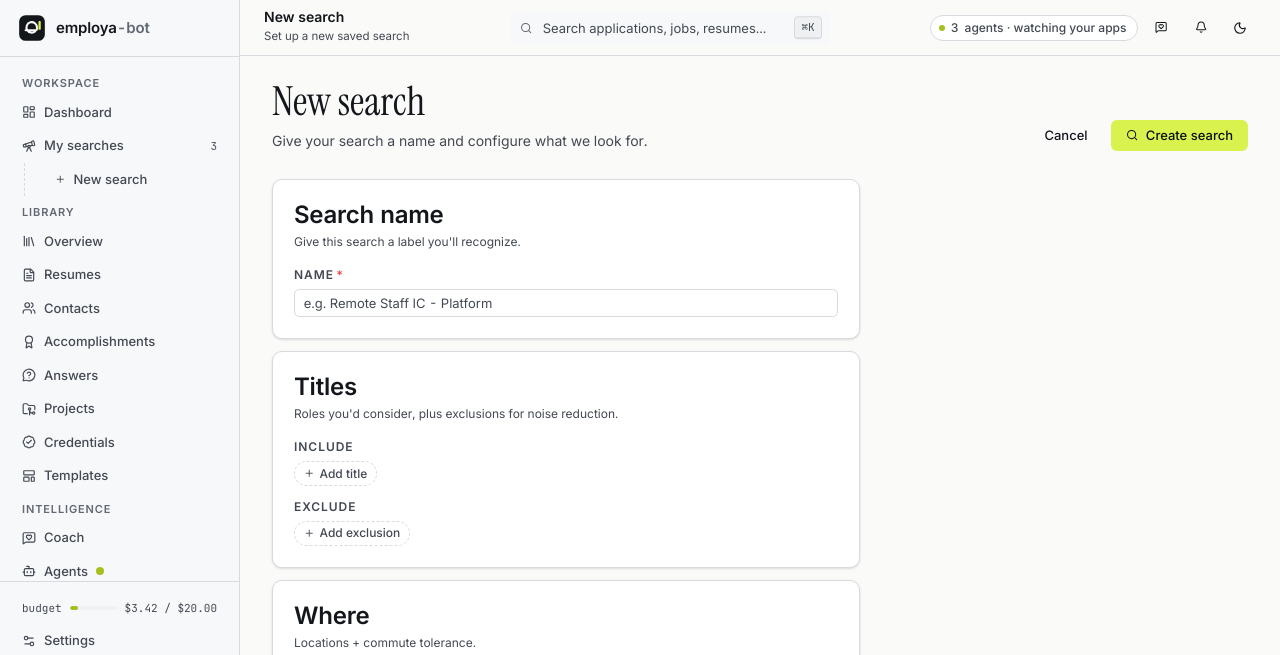
Test case: SearchCriteriaScreen -- create mode › shows inline name-required error when Create is clicked with empty name
Click the button "Create search" at (1179,135), box [1111, 120, 1248, 151]
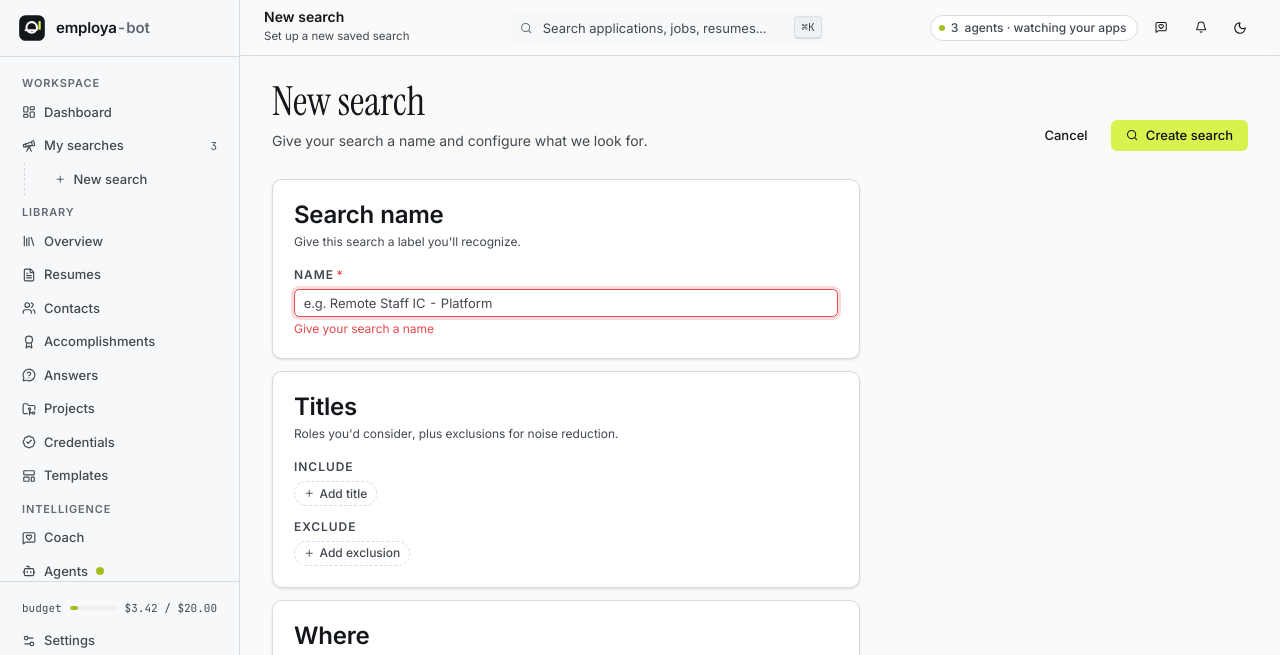
Result: the message reads "Give your search a name" at [294, 321, 434, 336]
